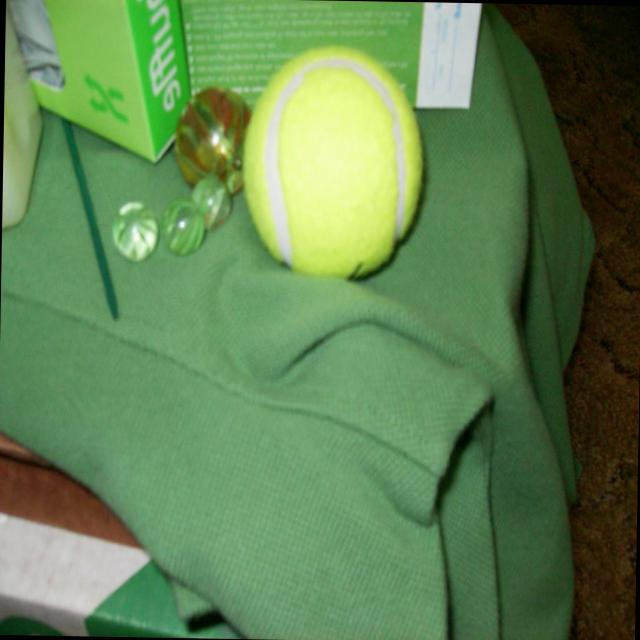Tennis Ball: (240, 43, 425, 279)
